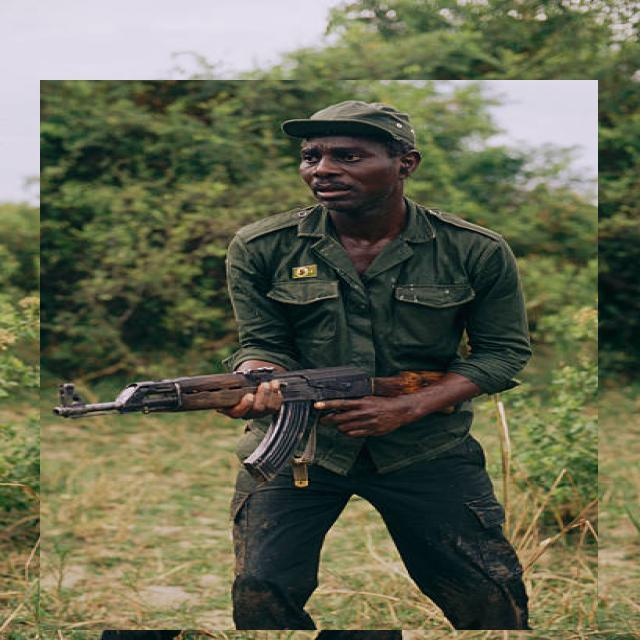poacher: (40, 80, 598, 630)
weapon: (186, 352, 595, 487)
